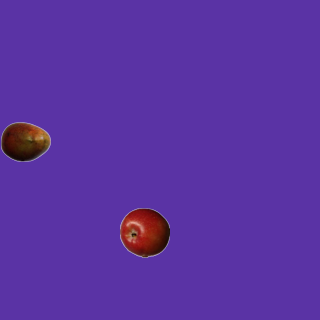Apple Braeburn: (119, 207, 169, 257)
Mango Red: (0, 116, 50, 166)
